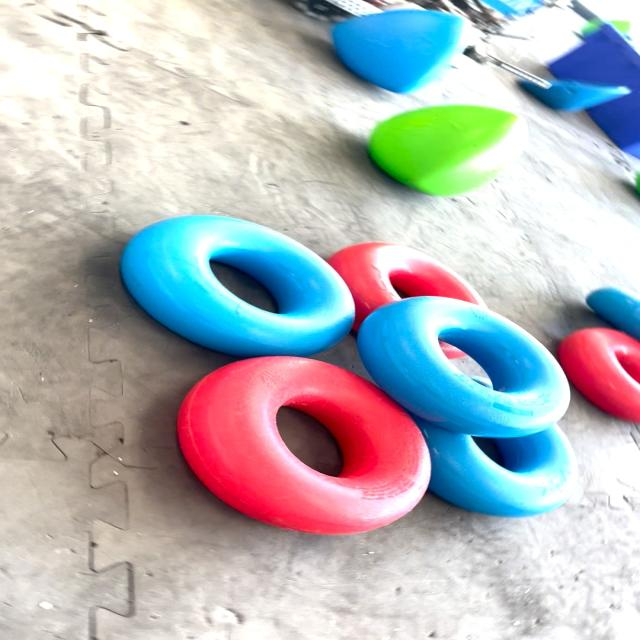Blue-Ring: (120, 215, 353, 358), (358, 296, 569, 438), (412, 415, 578, 517)
Red-Ring: (178, 356, 431, 534), (327, 242, 487, 331), (558, 328, 639, 422)
